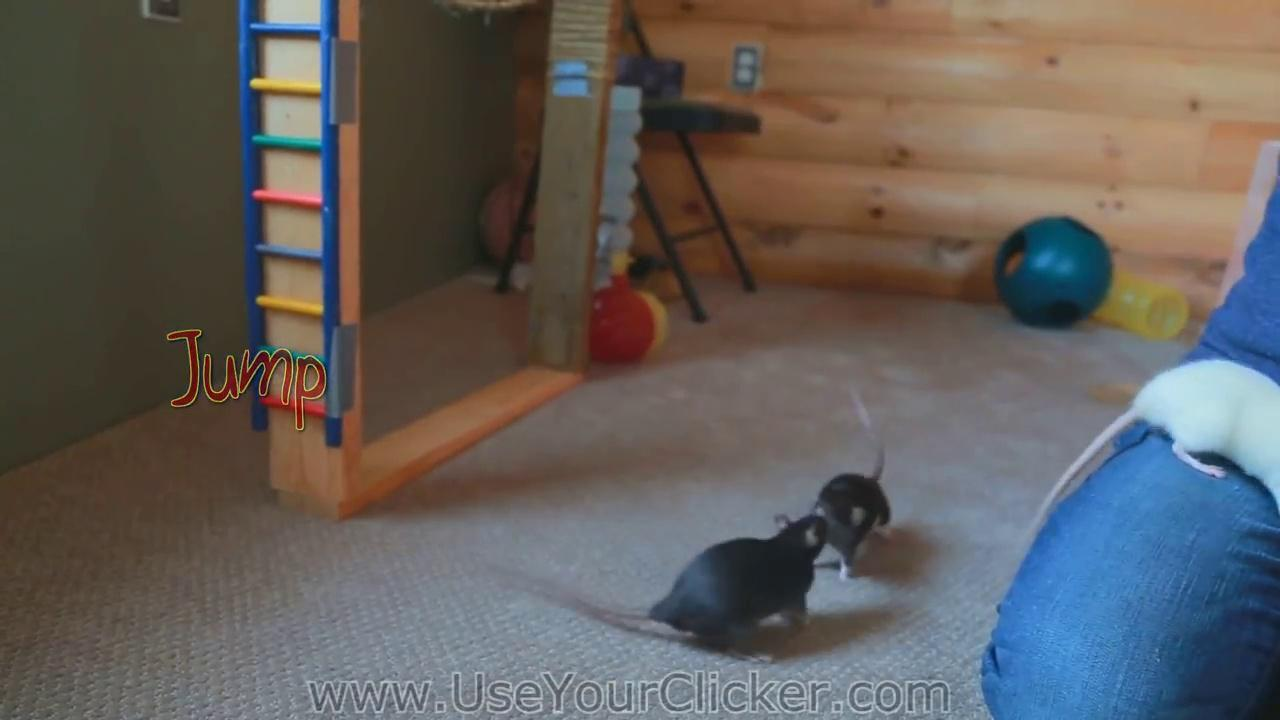rat: (497, 512, 822, 664), (807, 391, 894, 581)
